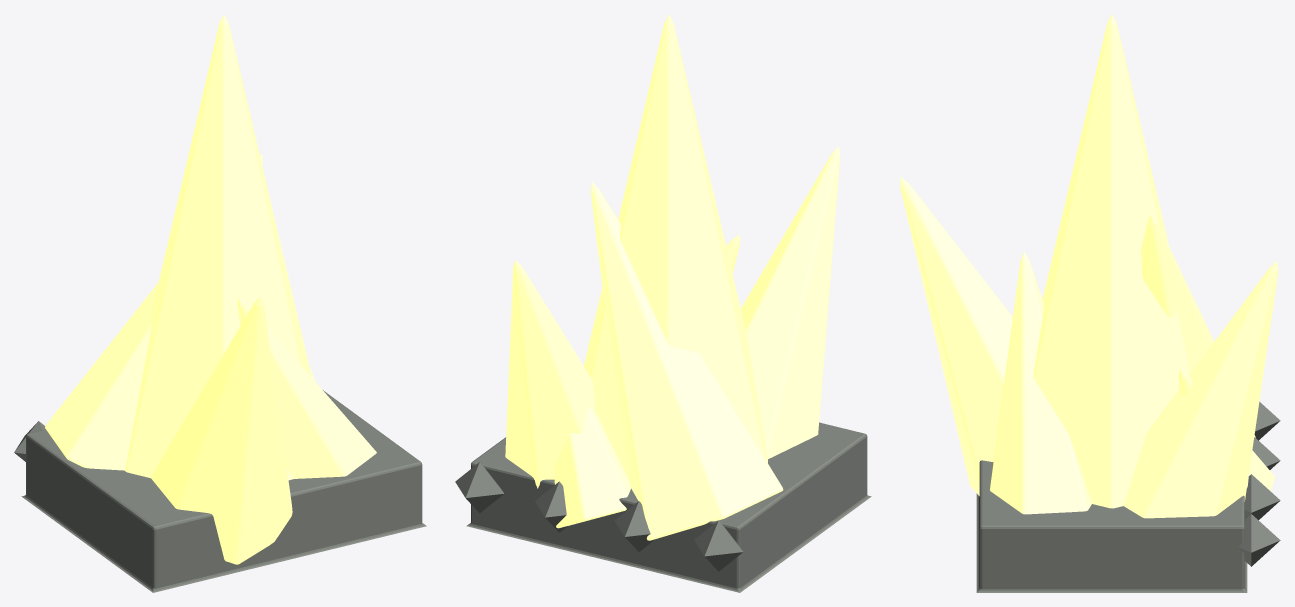
The model's file is ore.glb.
The picture shows the model from 3 angles, left to right: view 1: azimuth 30°, elevation 25°; view 2: azimuth 150°, elevation 25°; view 3: azimuth 270°, elevation 25°; orthographic projection. The views are drawn at different scales.
Parts seen in each view (by area): view 1: OreCrystal_0, ore_Static_Rock, ore_Static_OreCrystal, OreCrystal_1; view 2: ore_Static_OreCrystal, OreCrystal_0, ore_Static_Rock, OreCrystal_1; view 3: ore_Static_OreCrystal, OreCrystal_0, ore_Static_Rock, OreCrystal_1.
Part boxes in pixels (x1,y1,x2,y2): OreCrystal_0: (125,14,311,480); ore_Static_Rock: (14,390,426,592); ore_Static_OreCrystal: (151,297,376,564); OreCrystal_1: (45,154,262,470); ore_Static_OreCrystal: (505,146,840,528); OreCrystal_0: (584,14,767,481); ore_Static_Rock: (455,422,871,592); OreCrystal_1: (591,182,783,540); ore_Static_OreCrystal: (900,177,1278,518); OreCrystal_0: (1033,14,1192,508); ore_Static_Rock: (976,401,1280,592); OreCrystal_1: (1141,215,1255,437).
Bounding box in the file's own units: 1.52 × 2.51 × 1.69.
